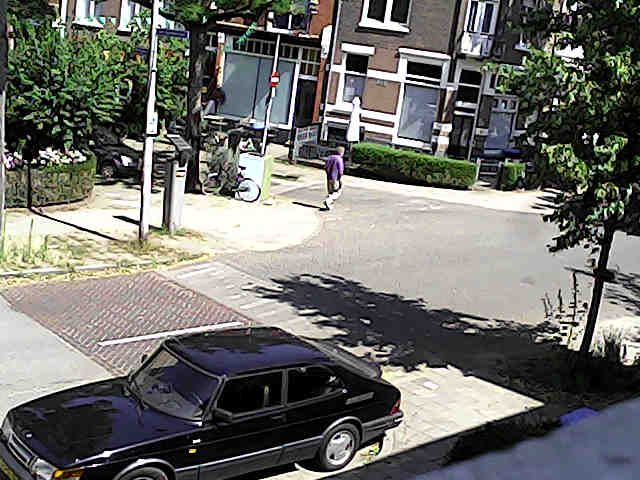male: (324, 146, 344, 209)
suv: (0, 327, 402, 479)
